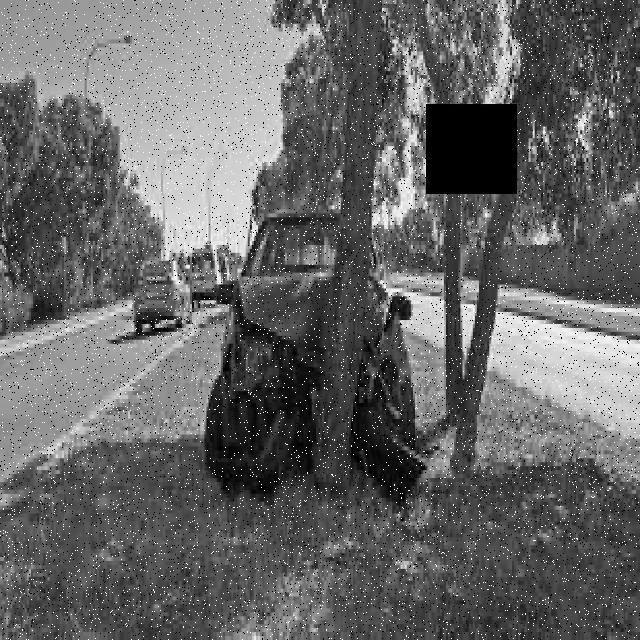accident: (201, 197, 420, 494)
vehicle: (122, 247, 199, 341), (175, 235, 232, 313)
